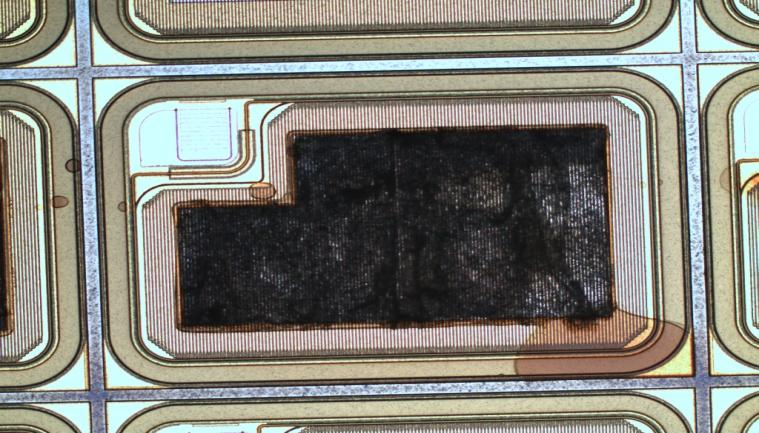SEZ BURNT: (172, 124, 618, 336)
